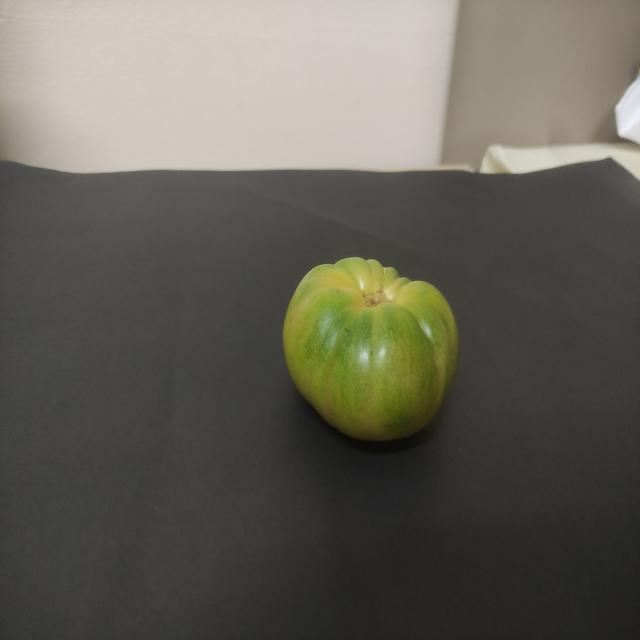yesil: (269, 236, 487, 457)
